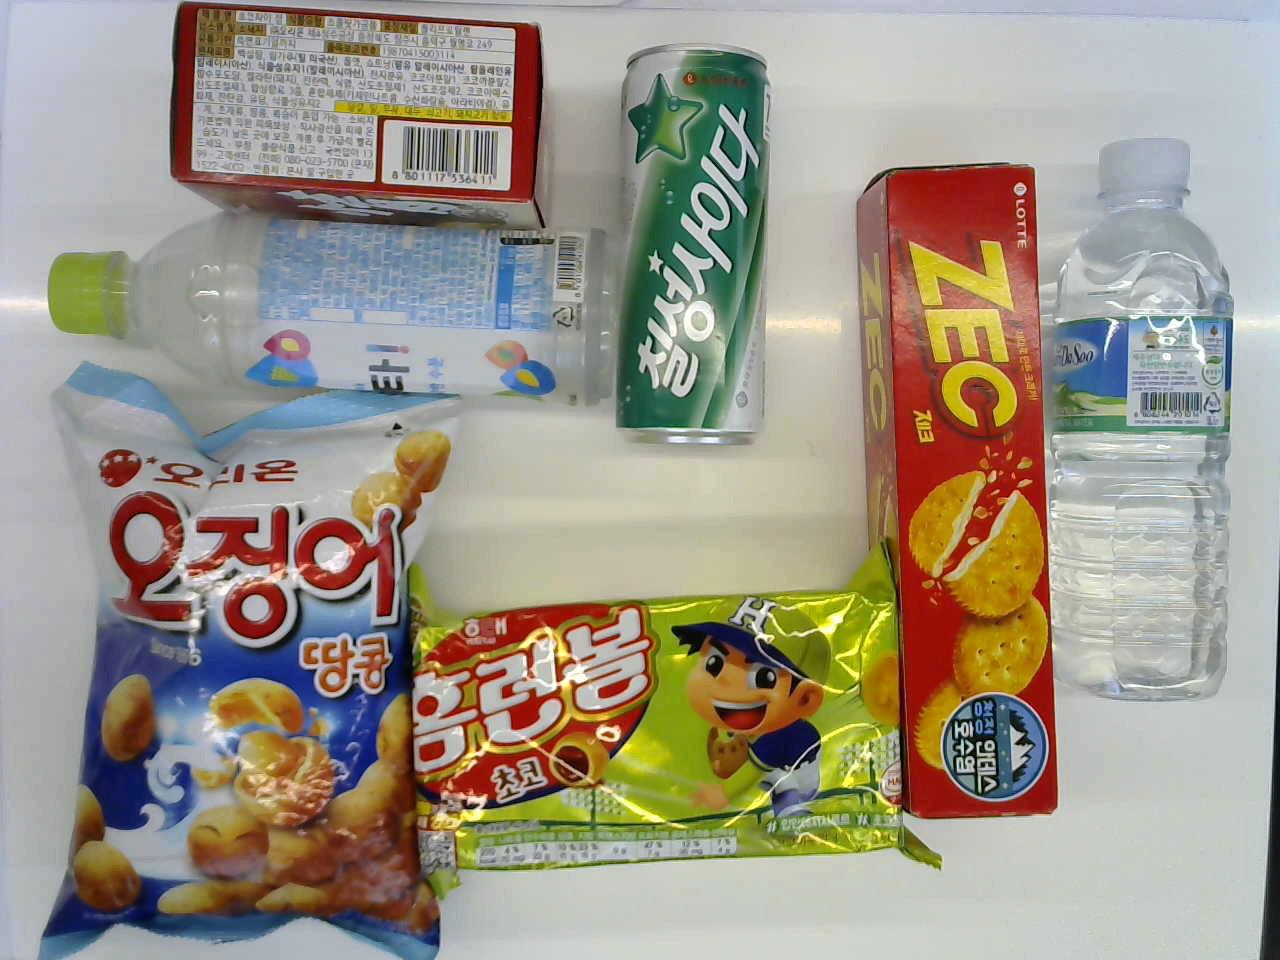chocopie: (167, 7, 560, 229)
cidar: (613, 41, 769, 458)
homerunball: (412, 556, 917, 877)
samdasu: (1048, 124, 1226, 706)
squid_peanut: (47, 382, 453, 944)
toreta: (32, 214, 600, 406)
zec: (858, 156, 1052, 820)
